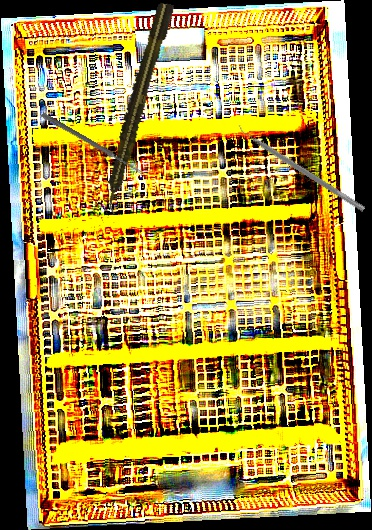Handpiece: (97, 0, 177, 215)
Spatula Surgical: (234, 121, 369, 213)
Surgical Spoon: (40, 112, 145, 176)
